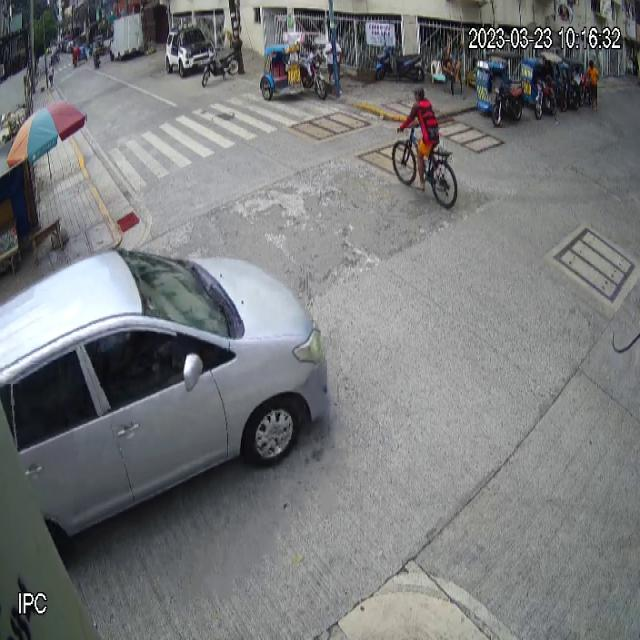Car: (0, 251, 329, 545)
Tricycle: (260, 28, 328, 102), (476, 51, 525, 128)
